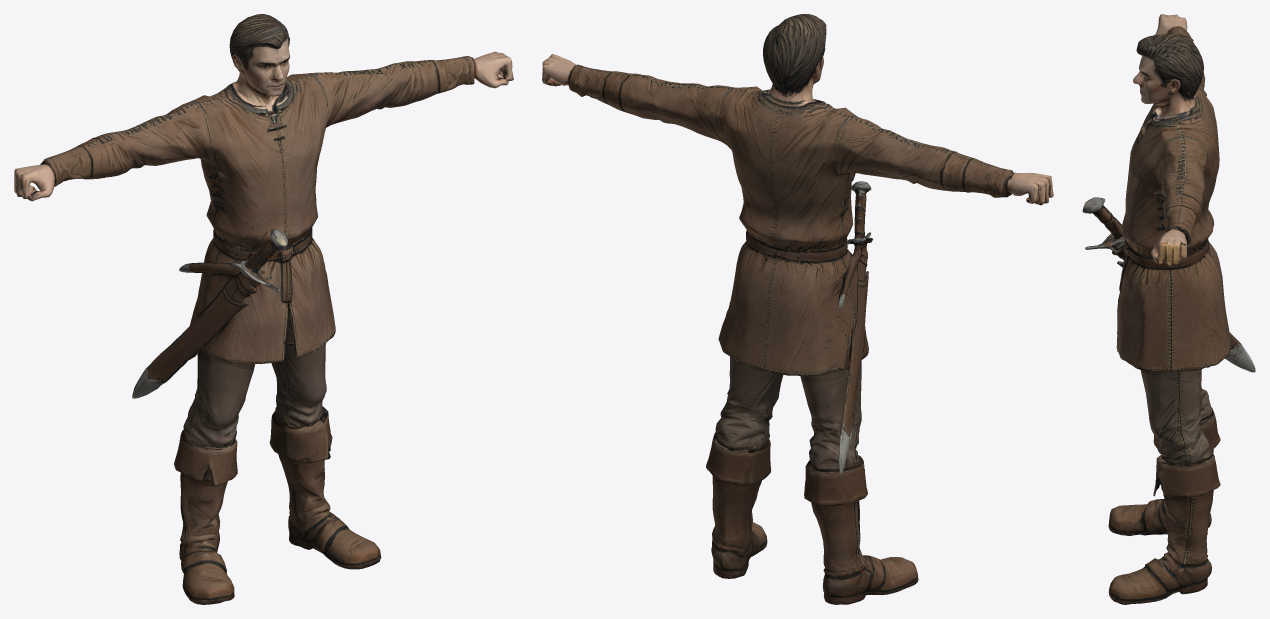
Rendered from PlayerRetry_Raw.glb.
3 renders of one model, left to right at view 1: azimuth 30°, elevation 25°; view 2: azimuth 150°, elevation 25°; view 3: azimuth 270°, elevation 25°, orthographic. The views are drawn at different scales.
Visible parts, largest first — view 1: texture_mapping; view 2: texture_mapping; view 3: texture_mapping.
Part boxes in pixels (x1,y1,x2,y2): texture_mapping: (14, 14, 513, 604); texture_mapping: (542, 14, 1053, 604); texture_mapping: (1082, 14, 1255, 604).
Bounding box in the file's own units: 0.9468 × 1 × 0.2995.
Materials: 1 (1 with a texture image).
